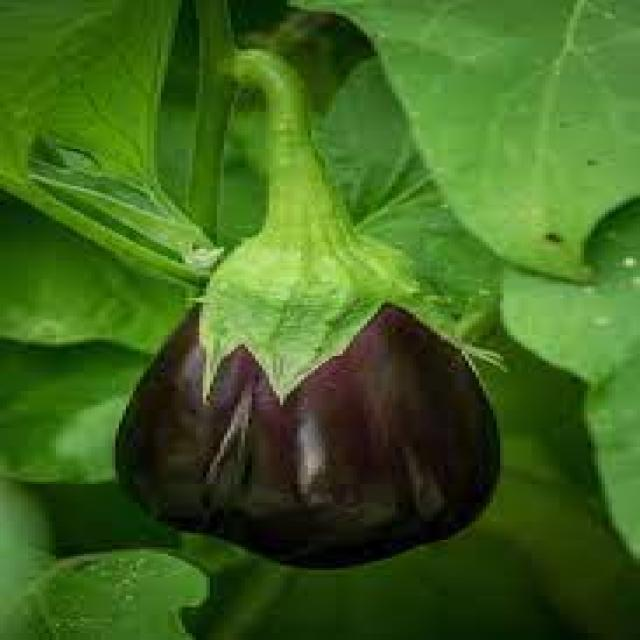Eggplant: (113, 305, 503, 576)
